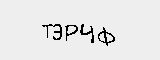Р: (63, 21, 78, 46)
Т: (40, 20, 54, 40)
Ф: (95, 26, 116, 47)
Ч: (79, 22, 97, 46)
Э: (49, 20, 64, 41)
